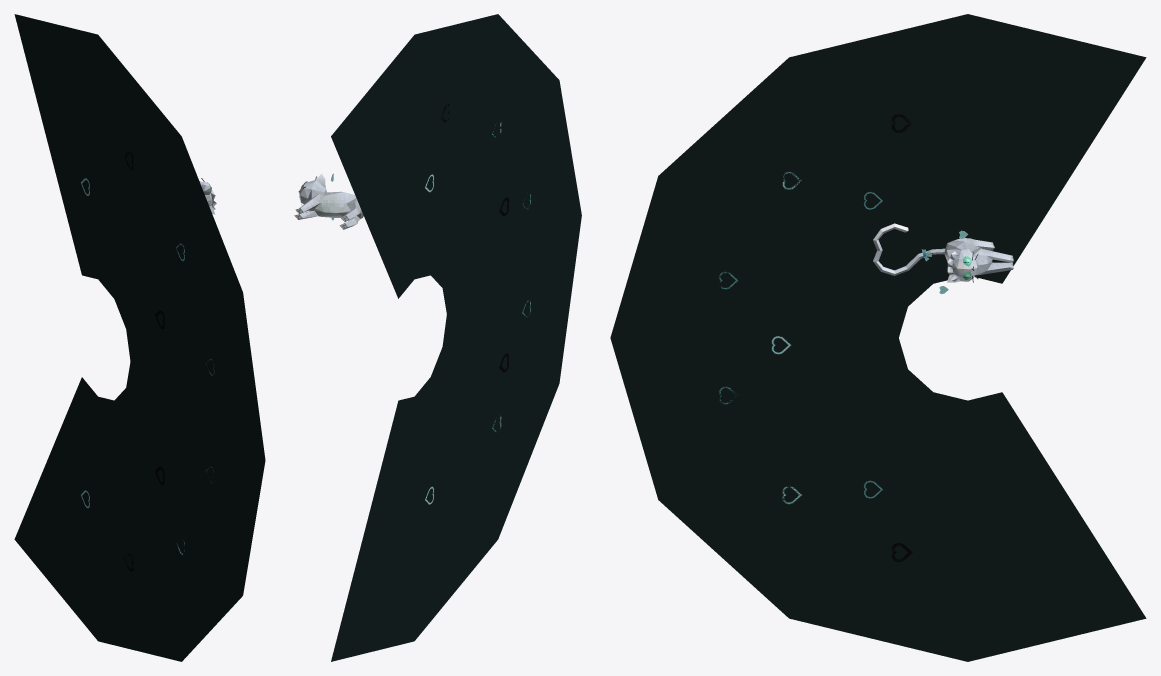
The picture shows the model from 3 angles, left to right: view 1: azimuth 30°, elevation 25°; view 2: azimuth 150°, elevation 25°; view 3: azimuth 270°, elevation 25°; orthographic projection. The views are drawn at different scales.
Visible parts, largest first — view 1: acce1563; view 2: acce1563; view 3: acce1563.
Part boxes in pixels (x1=…): acce1563: x1=14, y1=14, x2=265, y2=661; acce1563: x1=294, y1=14, x2=581, y2=661; acce1563: x1=610, y1=14, x2=1146, y2=661.
Size of the model in its own units: 0.5689 by 2.58 by 1.93.
Materials: 2 (2 with a texture image).
